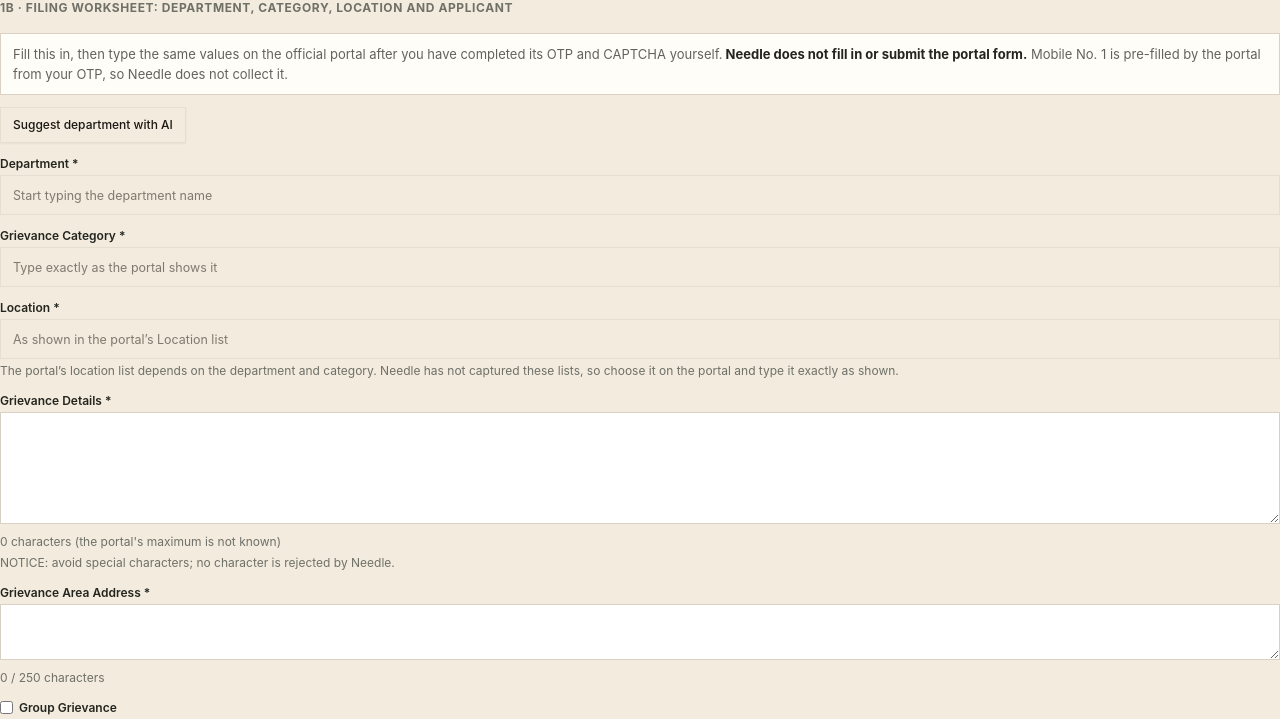
Test case: DelhiFilingWorksheet › a failed AI suggestion shows an error and leaves the form alone
The width and height of the screenshot is (1280, 719).
Click the button "Suggest department with AI" at (93, 125), box [0,107,186,143]
(page scrolled)
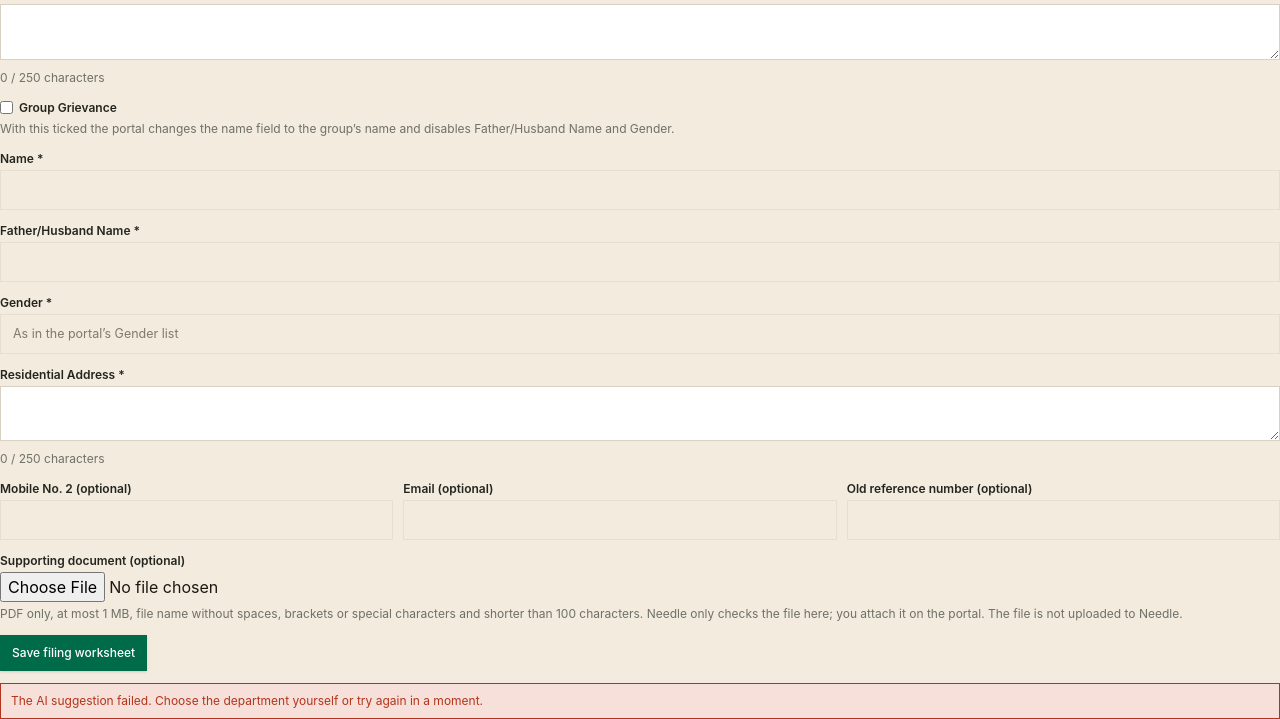
Result: the message shows "Choose the department yourself" at [11,693,483,708]
